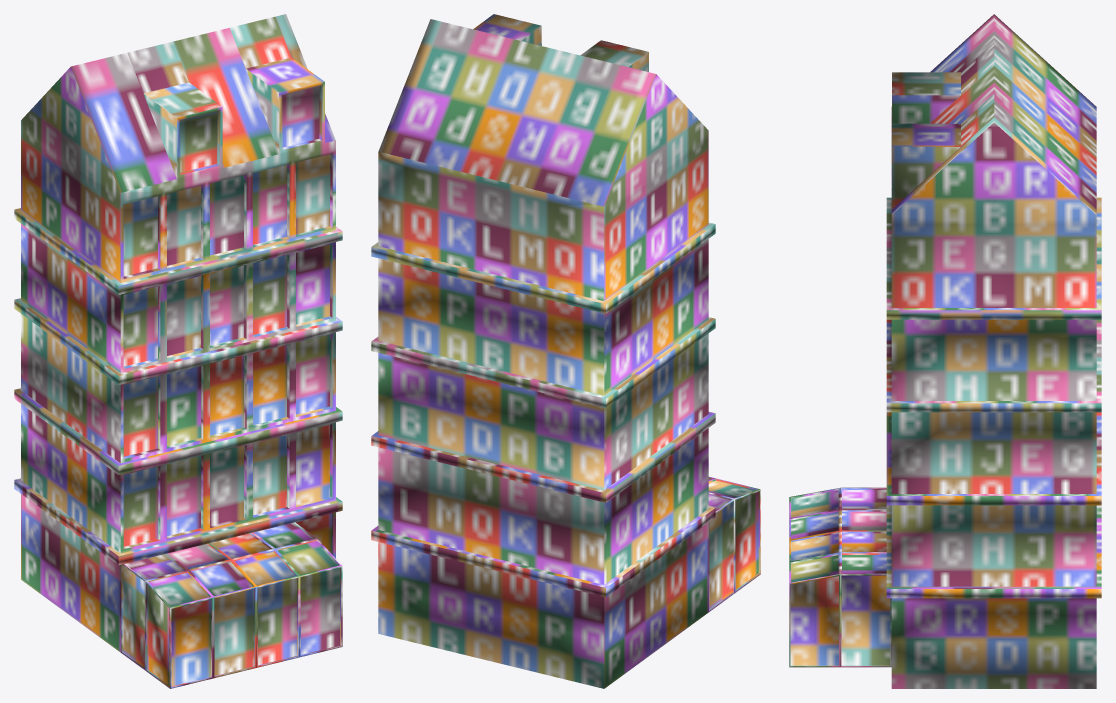
Rendered from building_side_05.obj.
3 views of the same model, side by side, from view 1: azimuth 30°, elevation 25°; view 2: azimuth 150°, elevation 25°; view 3: azimuth 270°, elevation 25° (orthographic). The views are drawn at different scales.
Parts seen in each view (by area): view 1: Cube4; view 2: Cube4; view 3: Cube4.
Part boxes in pixels (x1,y1,x2,y2): Cube4: [14, 14, 342, 688]; Cube4: [371, 14, 760, 688]; Cube4: [789, 14, 1101, 688].
Bounding box in the file's own units: 5.2 × 12.2 × 6.1.
Materials: 1 (1 with a texture image).
